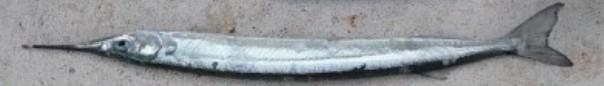fish: (27, 2, 574, 80)
